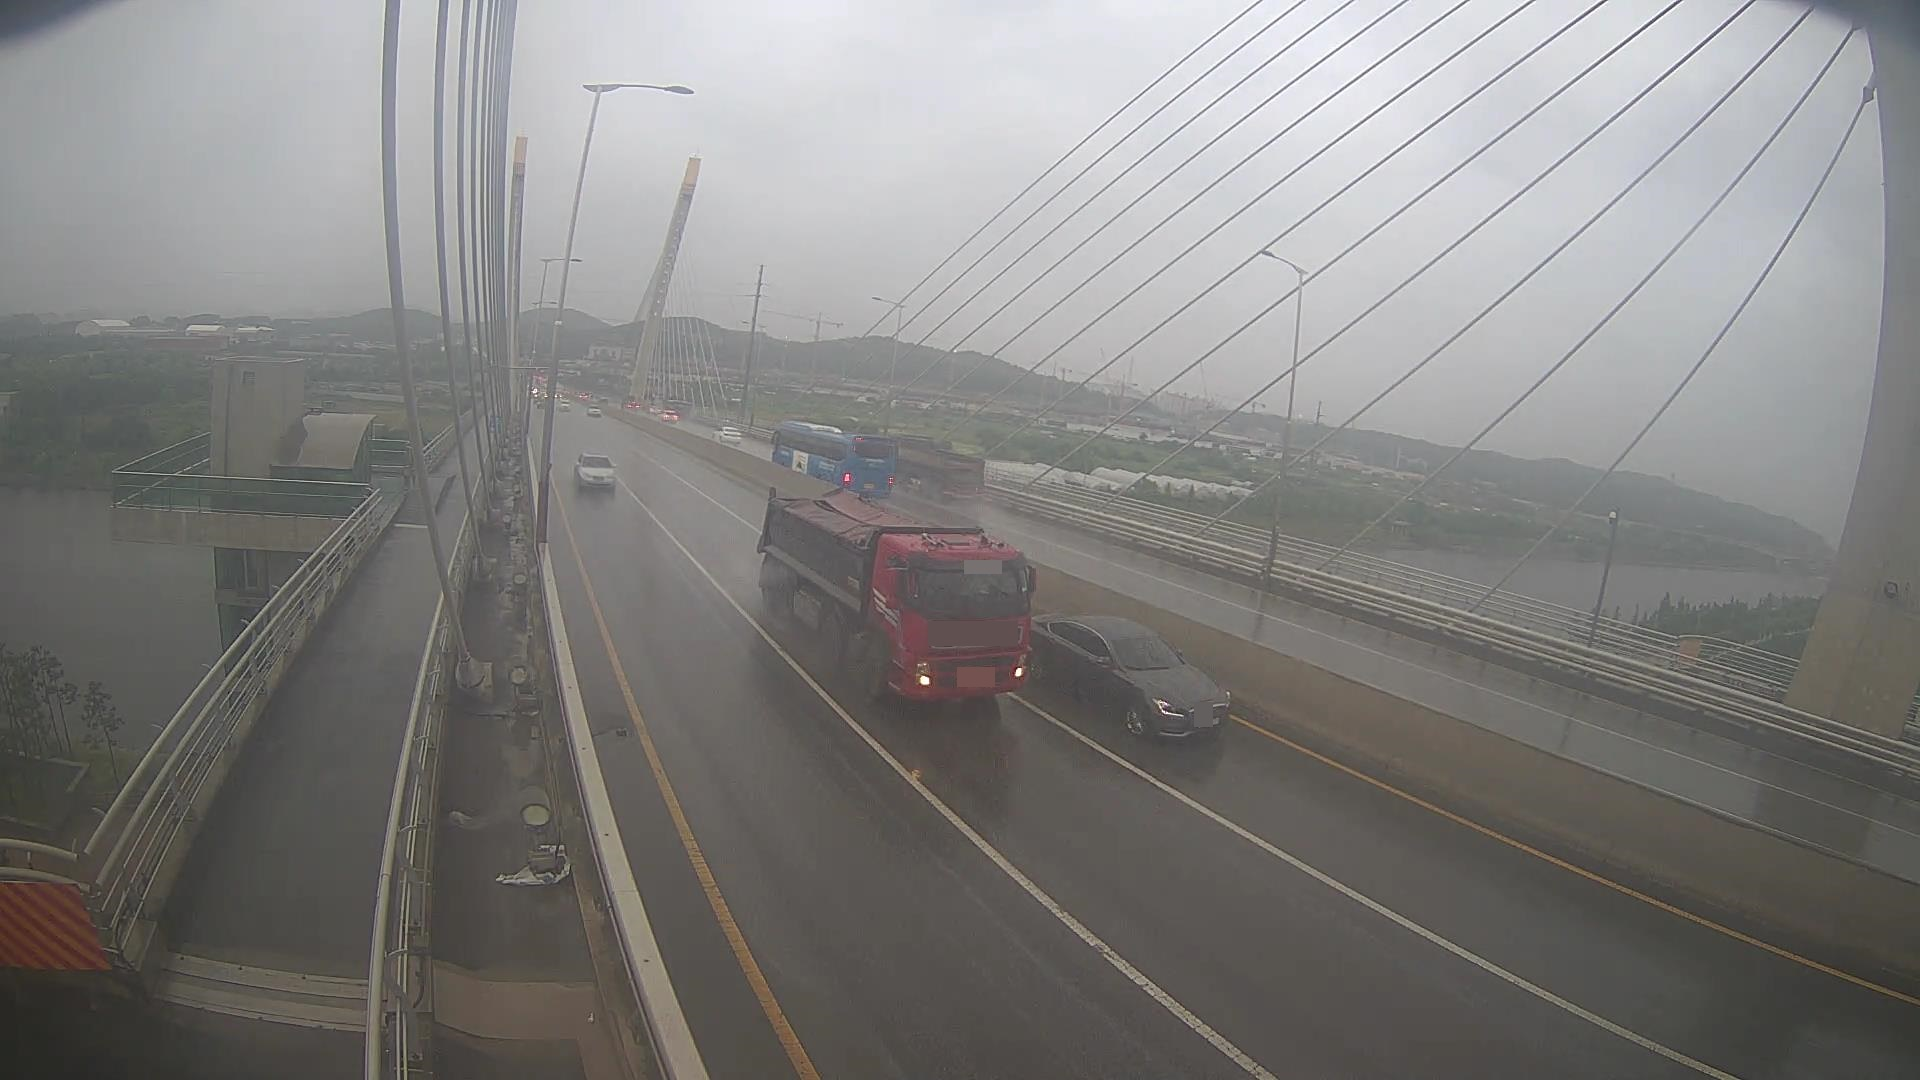정상차량: (757, 488, 1036, 699)
